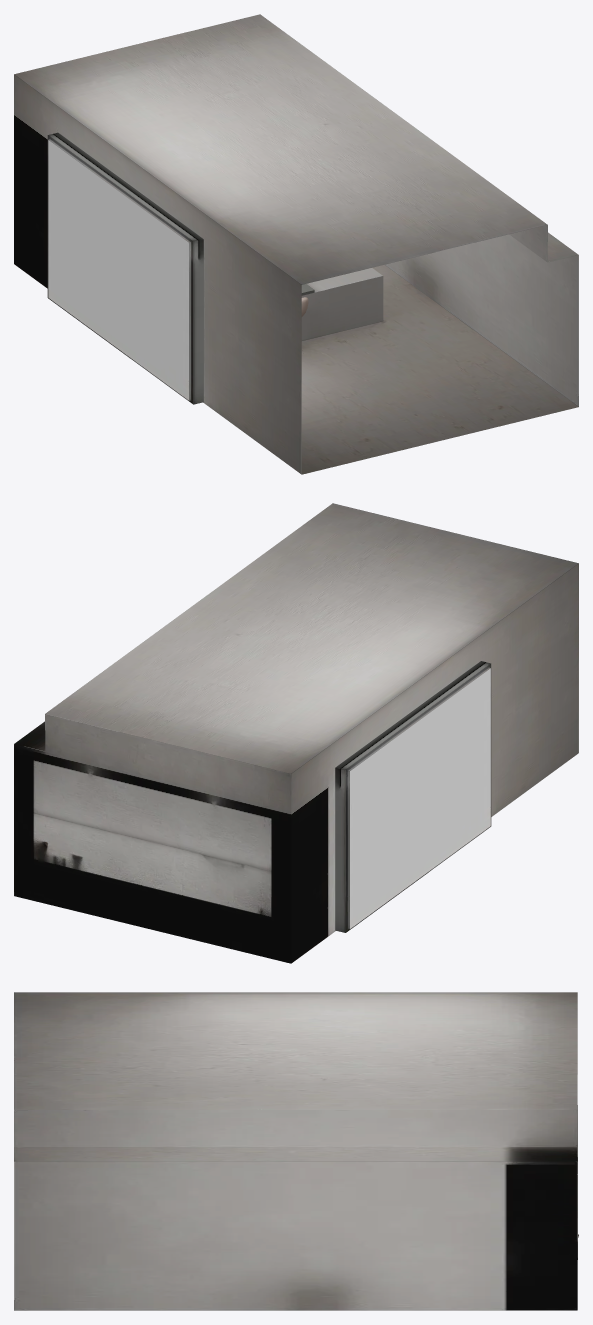
File: kitchen-run.glb
3 views of the same model, one above another, from view 1: azimuth 30°, elevation 25°; view 2: azimuth 150°, elevation 25°; view 3: azimuth 270°, elevation 25° (orthographic). The views are drawn at different scales.
Parts seen in each view (by area): view 1: Small_Modern_Kitchen_Structure_0, Small_Modern_Kitchen_Counters_0; view 2: Small_Modern_Kitchen_Structure_0; view 3: Small_Modern_Kitchen_Structure_0.
Part boxes in pixels (x1=…): Small_Modern_Kitchen_Structure_0: x1=14, y1=14, x2=578, y2=474; Small_Modern_Kitchen_Counters_0: x1=301, y1=268, x2=383, y2=340; Small_Modern_Kitchen_Structure_0: x1=14, y1=503, x2=578, y2=963; Small_Modern_Kitchen_Structure_0: x1=14, y1=992, x2=577, y2=1310.
Size of the model in its own units: 3 by 1.88 by 5.18.
Materials: 12 (11 with a texture image).
